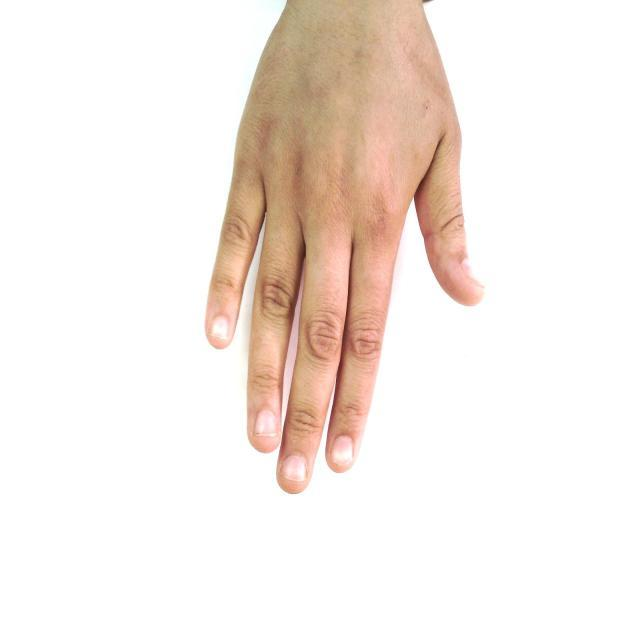Fingernail: (331, 436, 353, 468), (283, 455, 306, 481), (462, 261, 484, 288), (256, 410, 277, 435), (210, 316, 228, 340)
